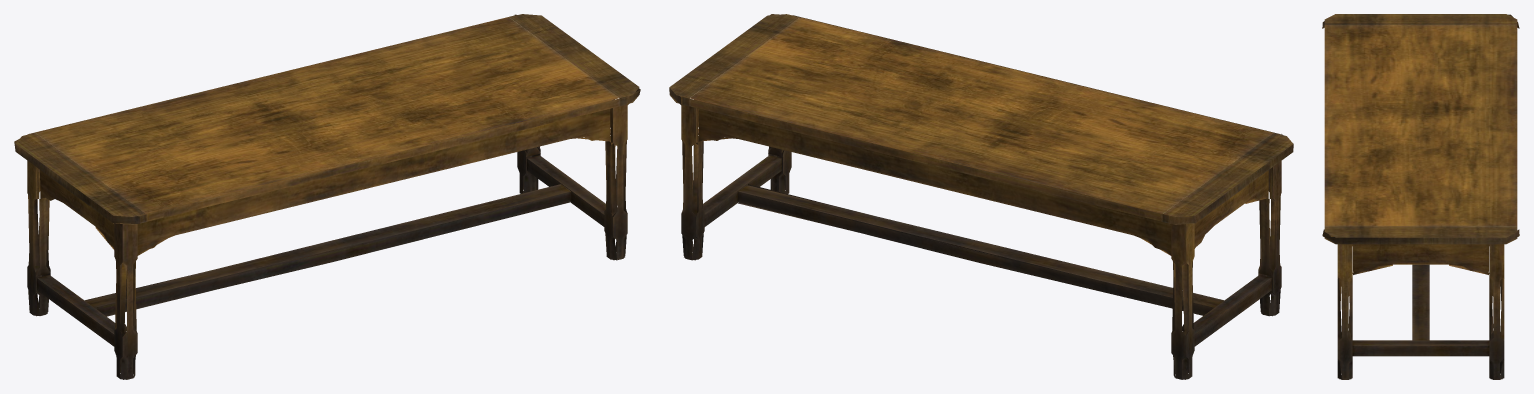
Rendered from table.glb.
3 renders of one model, left to right at view 1: azimuth 30°, elevation 25°; view 2: azimuth 150°, elevation 25°; view 3: azimuth 270°, elevation 25°, orthographic. The views are drawn at different scales.
Parts seen in each view (by area): view 1: WoodenTable_01; view 2: WoodenTable_01; view 3: WoodenTable_01.
Boxes of the visible parts, x1,y1,x2,y2 form: WoodenTable_01: (14, 14, 640, 379); WoodenTable_01: (669, 14, 1293, 379); WoodenTable_01: (1322, 14, 1519, 379).
Size of the model in its own units: 1.79 by 0.5488 by 0.6676.
Materials: 1 (1 with a texture image).
